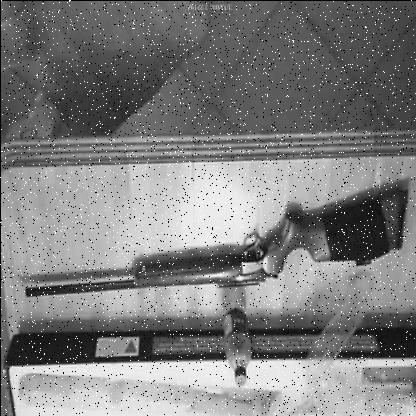rifle: (27, 144, 402, 307)
